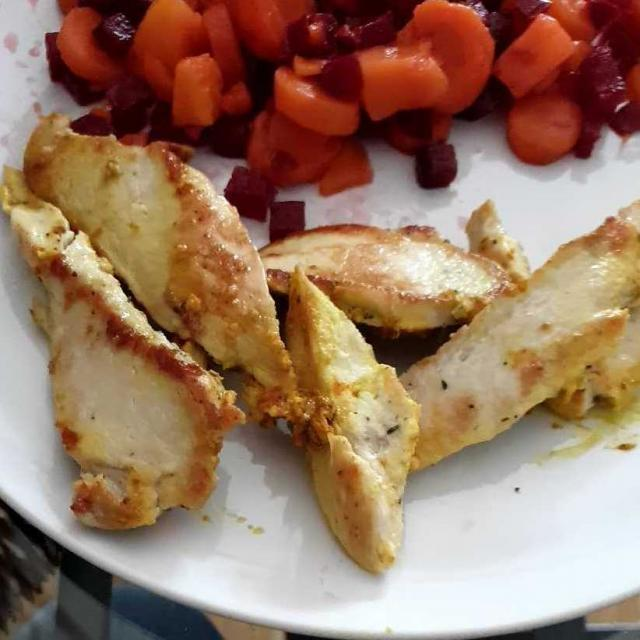chicken-breast: (14, 101, 625, 567)
